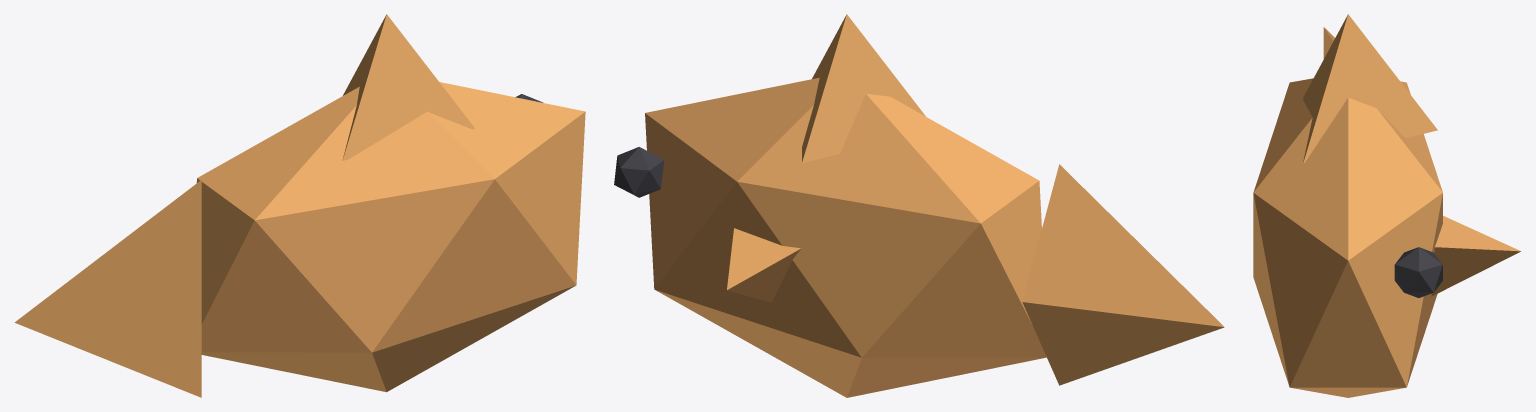
File: pez.glb
The picture shows the model from 3 angles, left to right: view 1: azimuth 30°, elevation 25°; view 2: azimuth 150°, elevation 25°; view 3: azimuth 270°, elevation 25°; orthographic projection.
Parts seen in each view (by area): view 1: pez; view 2: pez; view 3: pez.
Boxes of the visible parts, bbox=[...] form: pez: bbox=[14, 14, 585, 397]; pez: bbox=[614, 14, 1224, 397]; pez: bbox=[1253, 14, 1520, 397].
Bounding box in the file's own units: 0.5216 × 0.33 × 0.2088.
